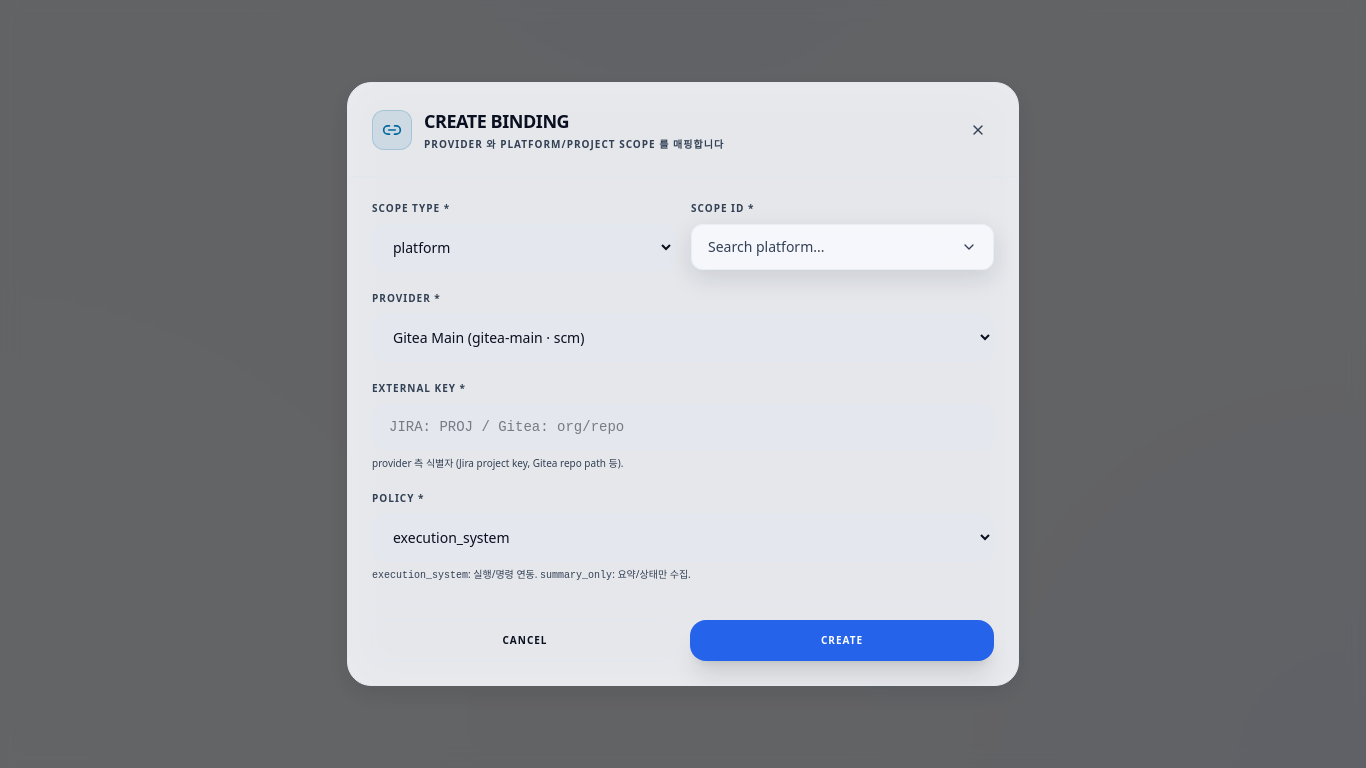
CreateBindingModal › renders project plain input when scope_type is project
Select "project" in the dropdown labelled "Scope Type *": (524, 248) [372,224,675,271]
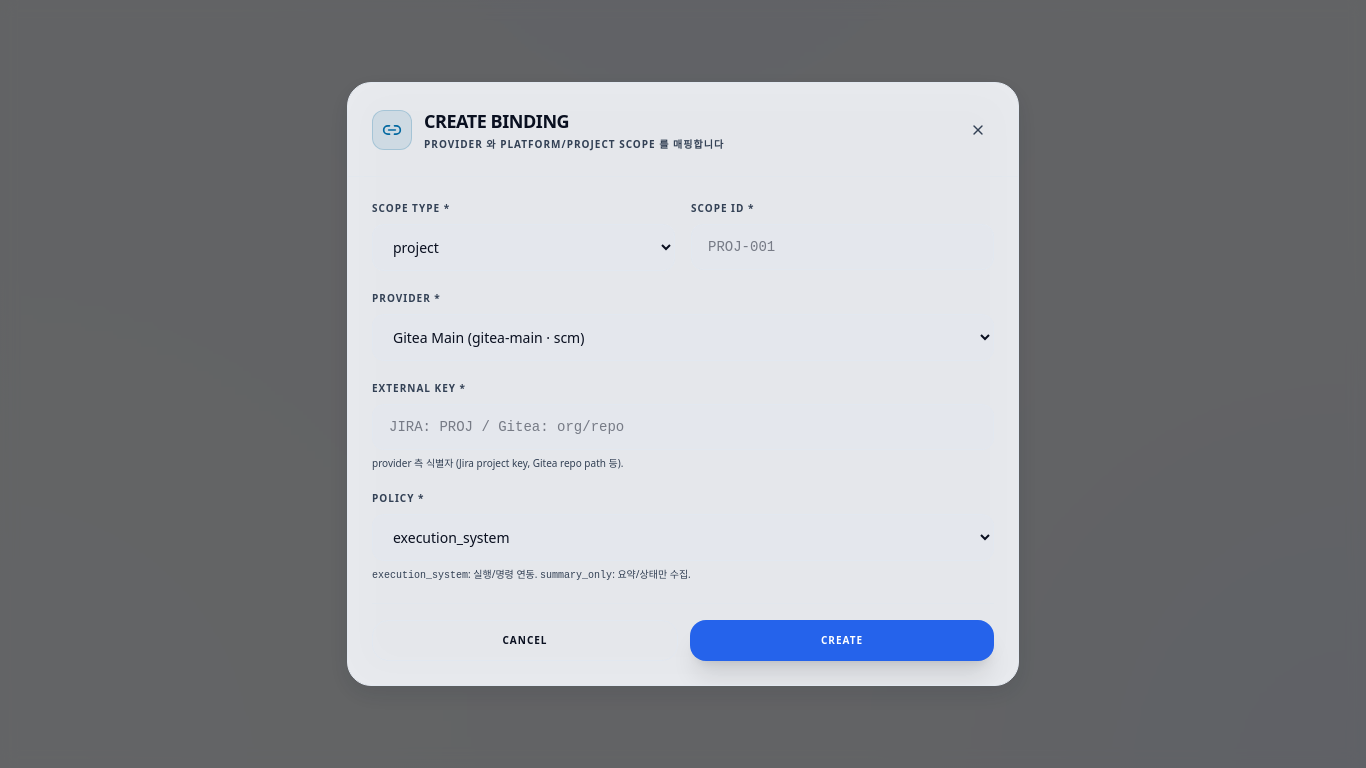
Now the field with placeholder "PROJ-001" is shown, box [691,224,994,270]
